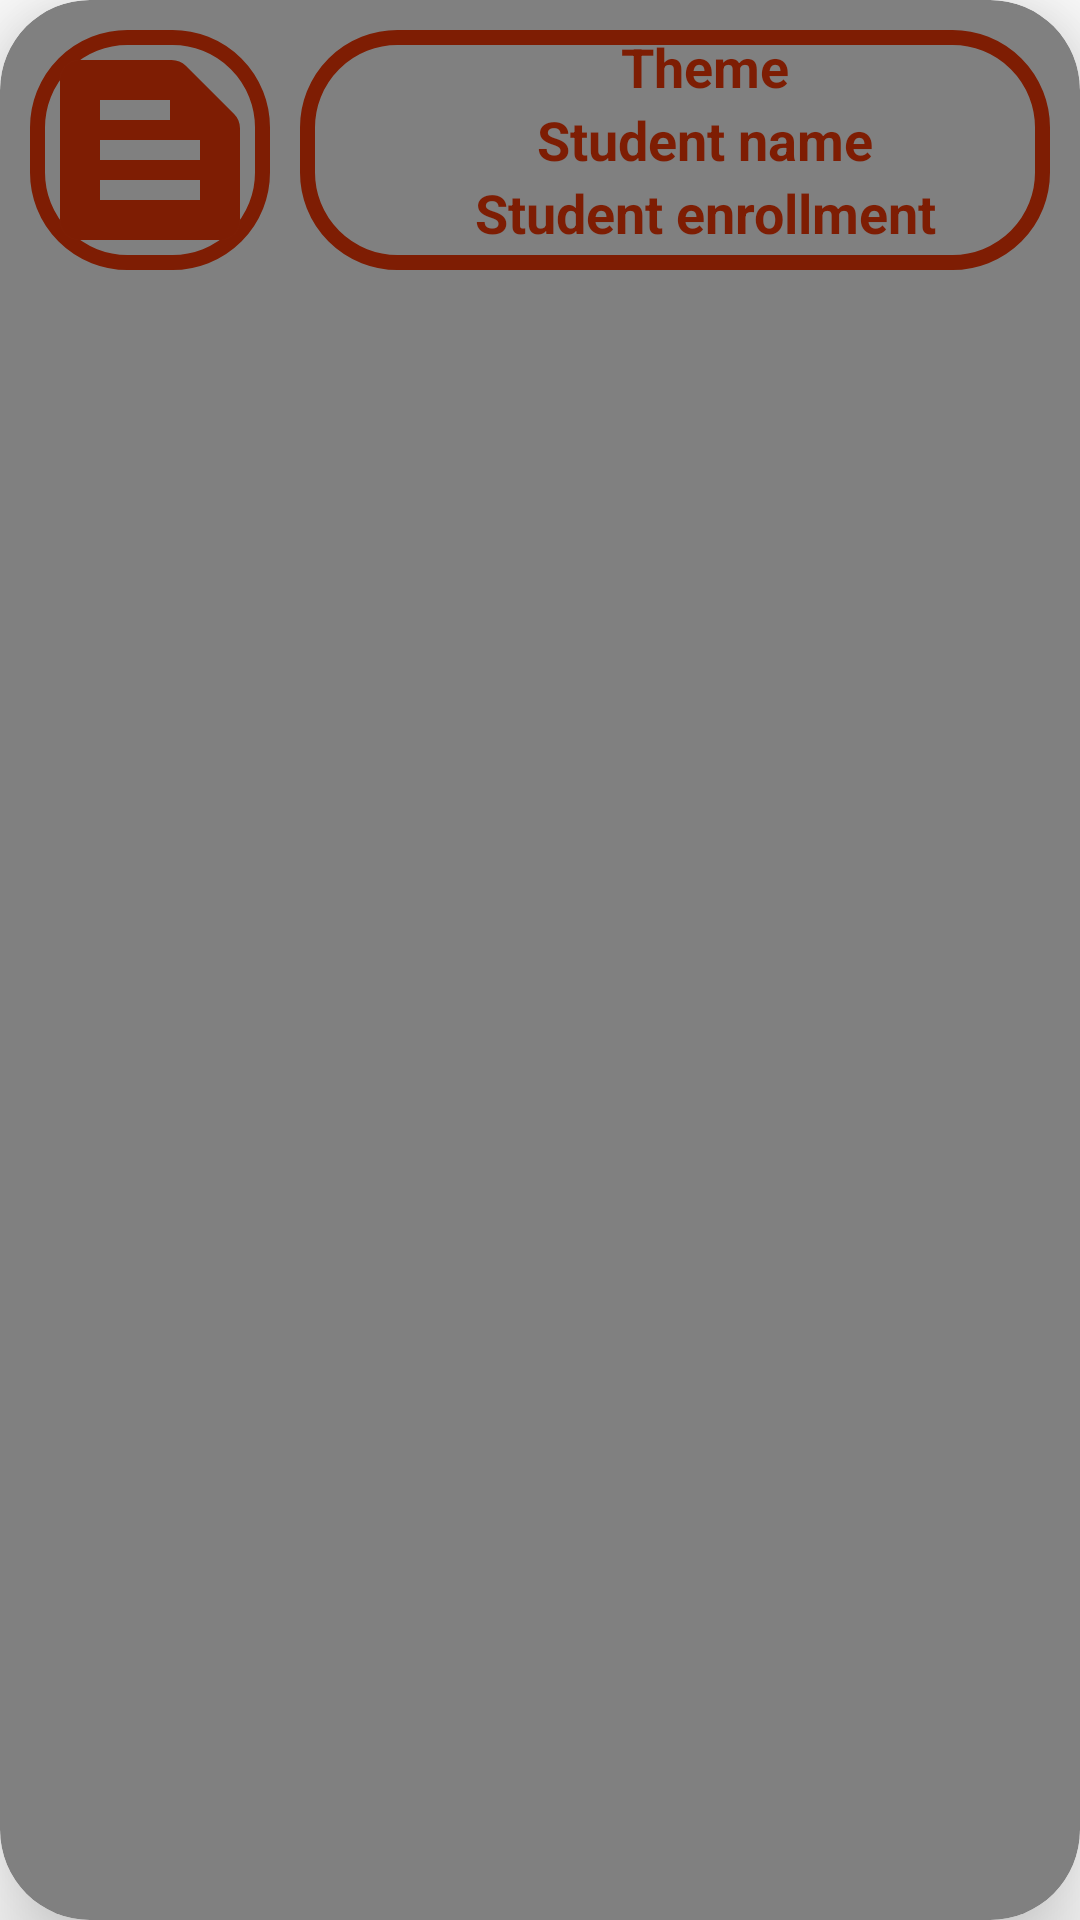

Icon bounding boxes for this 1080px x 1920px phone screenshot, format (x1, y1, x2, y2):
text snippet: (30, 30, 270, 270)
